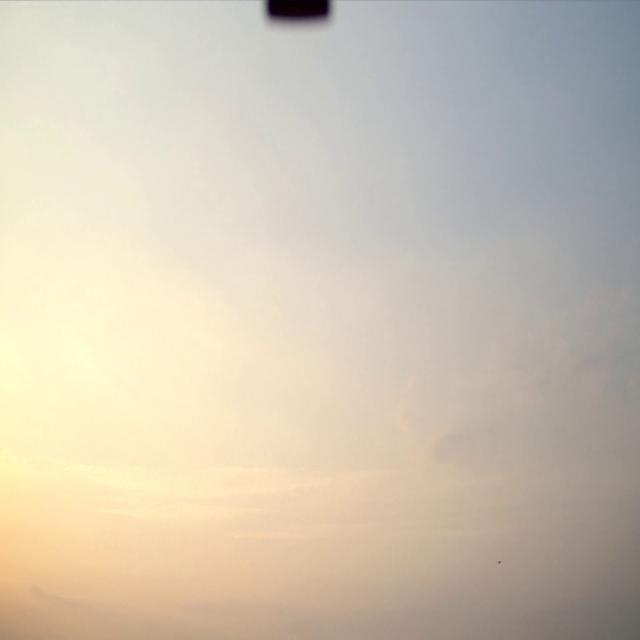UAV: (498, 560, 503, 564)
